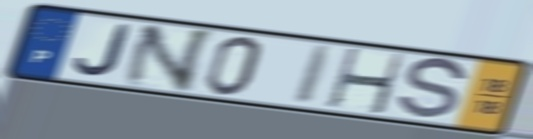0: (201, 35, 266, 98)
H: (325, 46, 409, 117)
I: (291, 43, 339, 107)
J: (71, 23, 135, 79)
N: (118, 24, 219, 95)
S: (394, 56, 471, 122)
